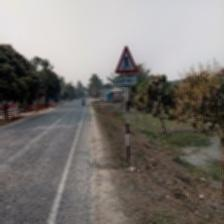Market-in-front: (114, 46, 140, 89)
